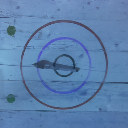Axe Tip: (31, 63, 45, 66)
